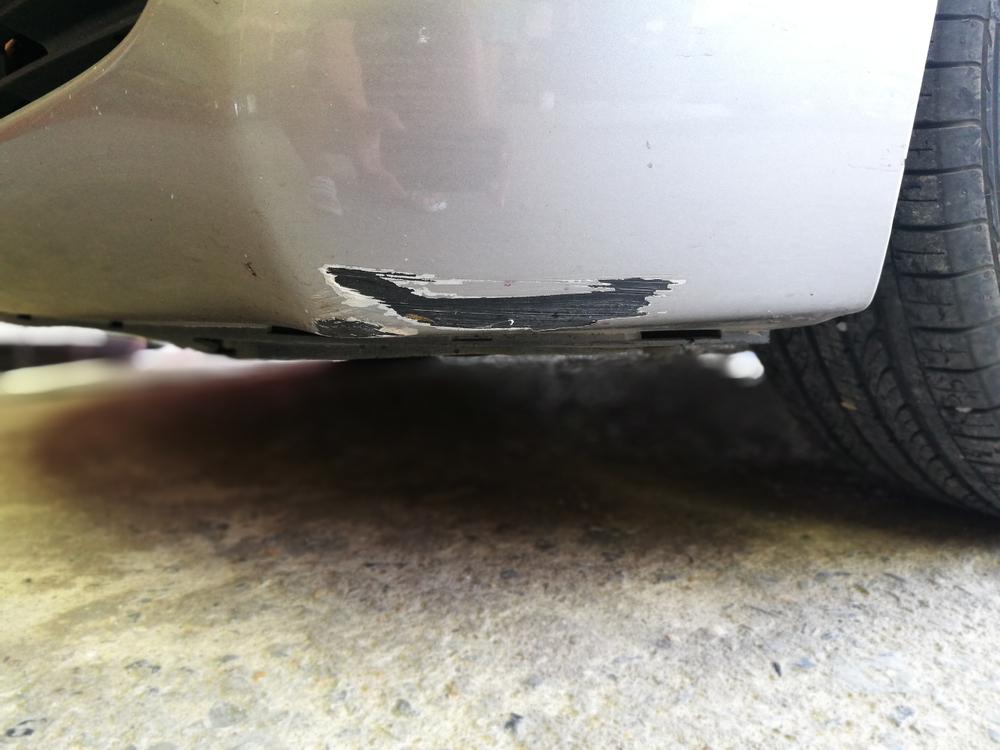scratch: (306, 260, 692, 341)
